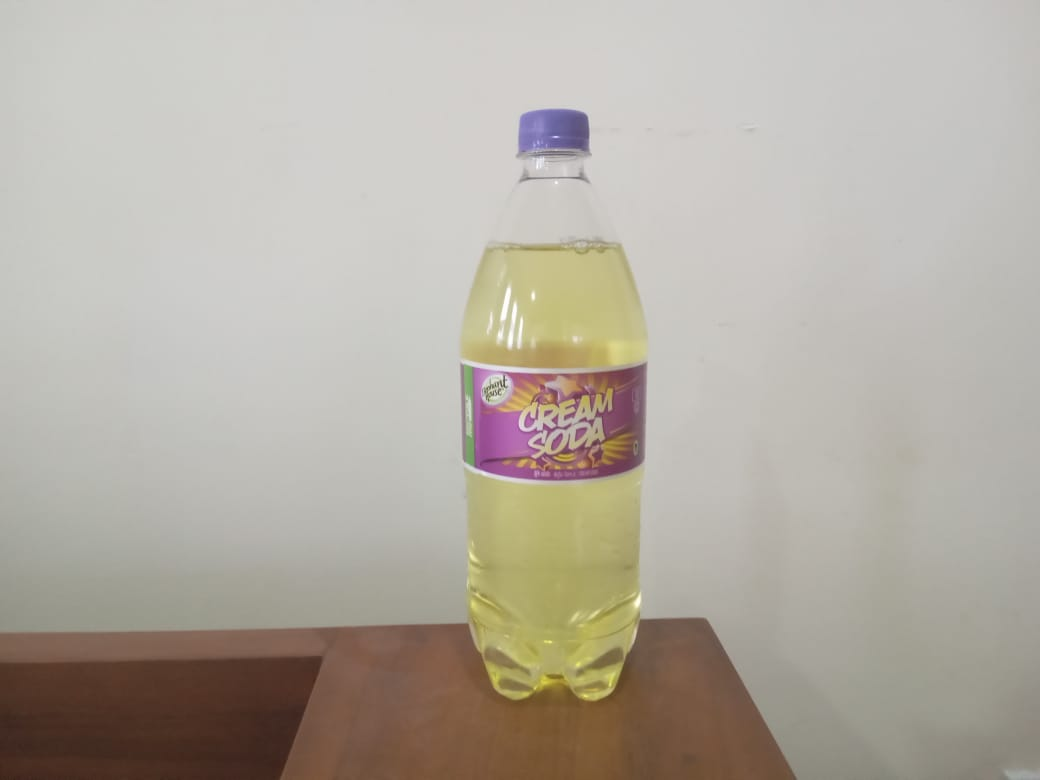M: (445, 102, 662, 707)
